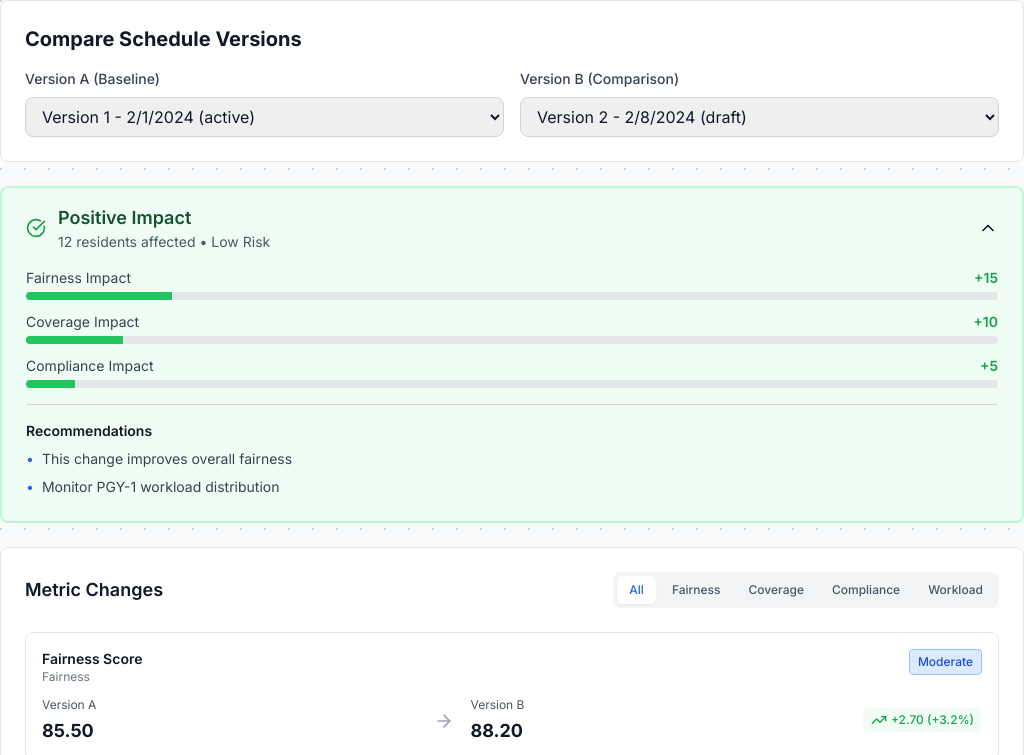
VersionComparison › Impact Assessment Display › should expand/collapse impact assessment details
Expected: the heading "Positive Impact" is shown, [58, 207, 191, 228]
Expected: the text "Fairness Impact" is shown, [26, 268, 131, 288]
Note: Click to collapse - use a broader query for the button
Click the button "Positive Impact 12 residents affected • Low Risk". click: click(125, 218)
box: [2, 188, 1022, 268]
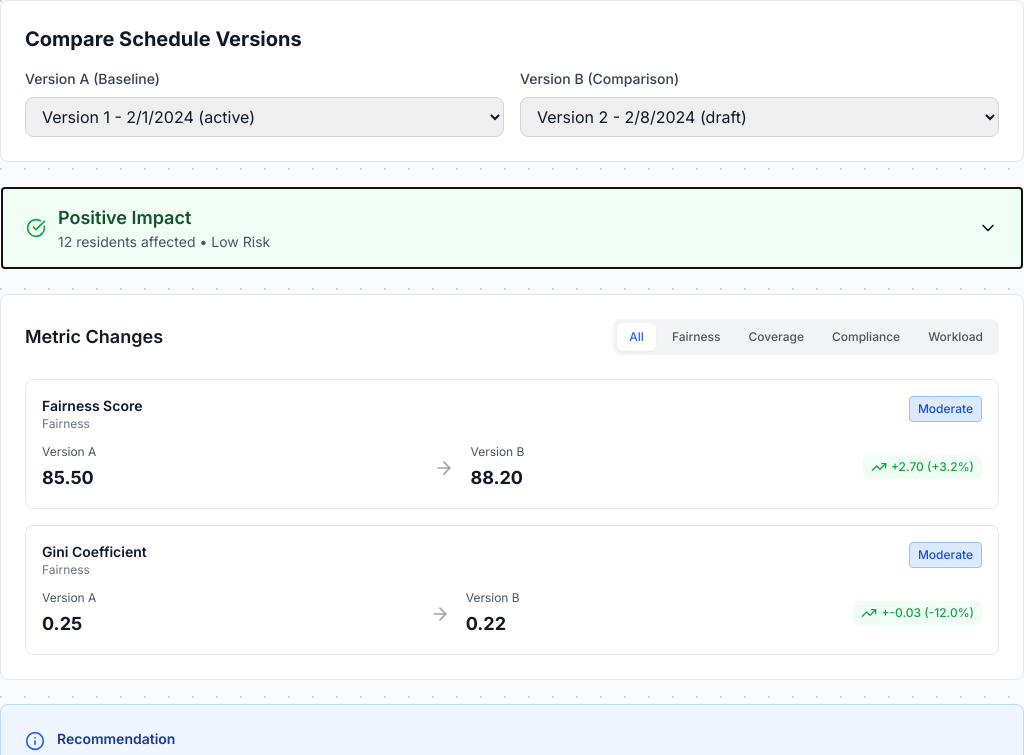
Now the text "Fairness Impact" is gone
